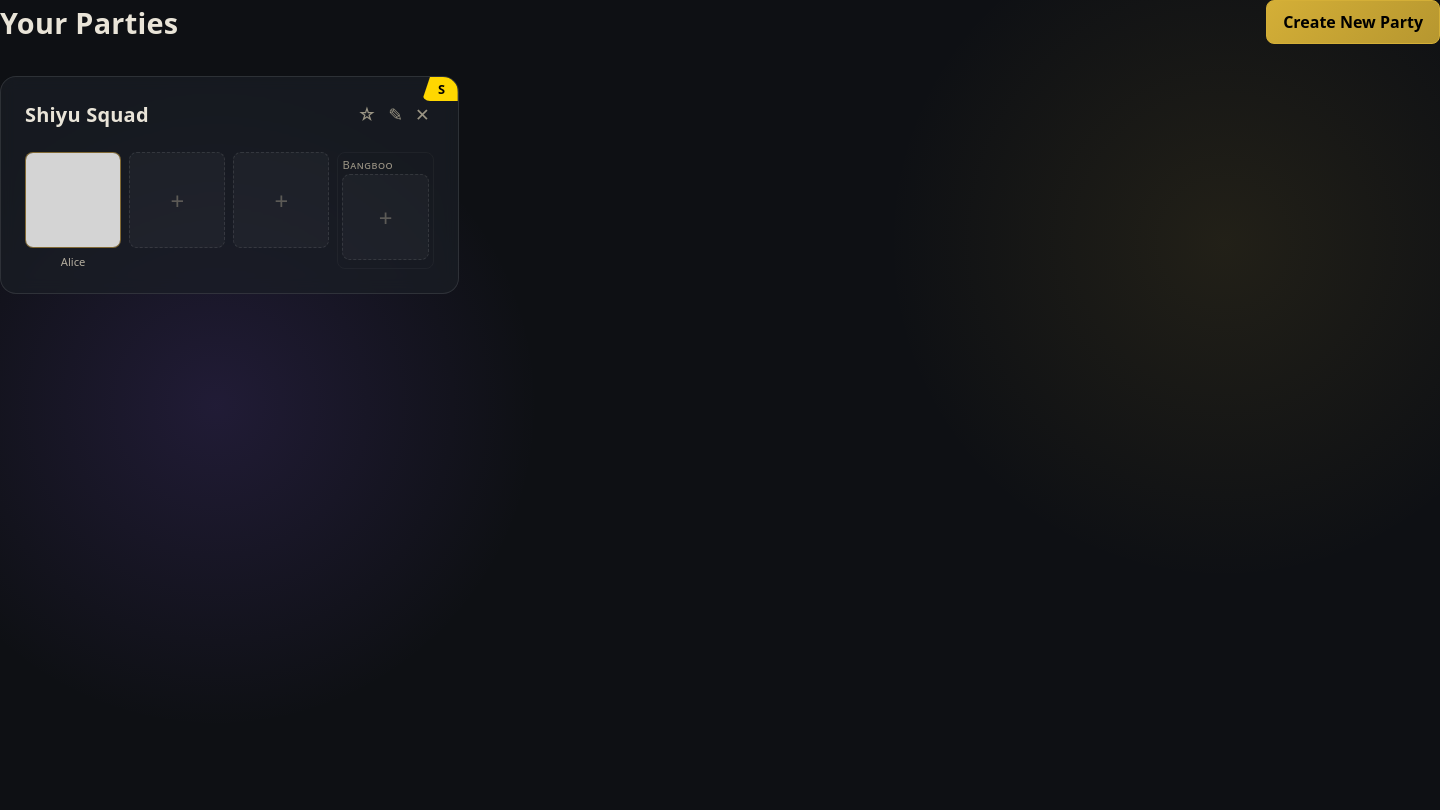
PartiesTab (ZZZ config wiring) › resolves companion picker images through getZzzBangbooIconUrl
Click the button "Create New Party" at (1353, 22), box [1266, 0, 1439, 44]
(page scrolled)
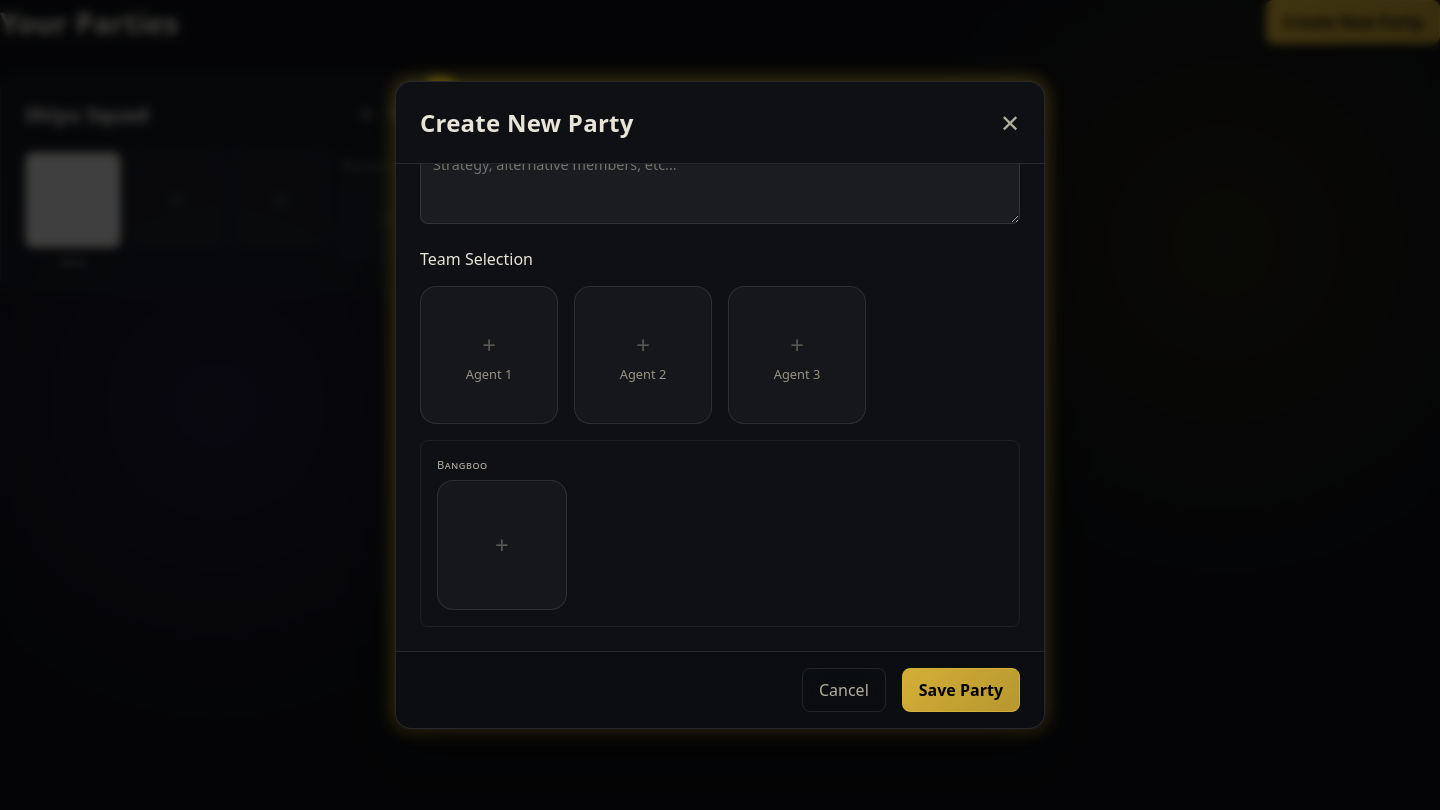
Click the element with class "builder-slot" showing "+" at (502, 545), box [437, 480, 566, 610]
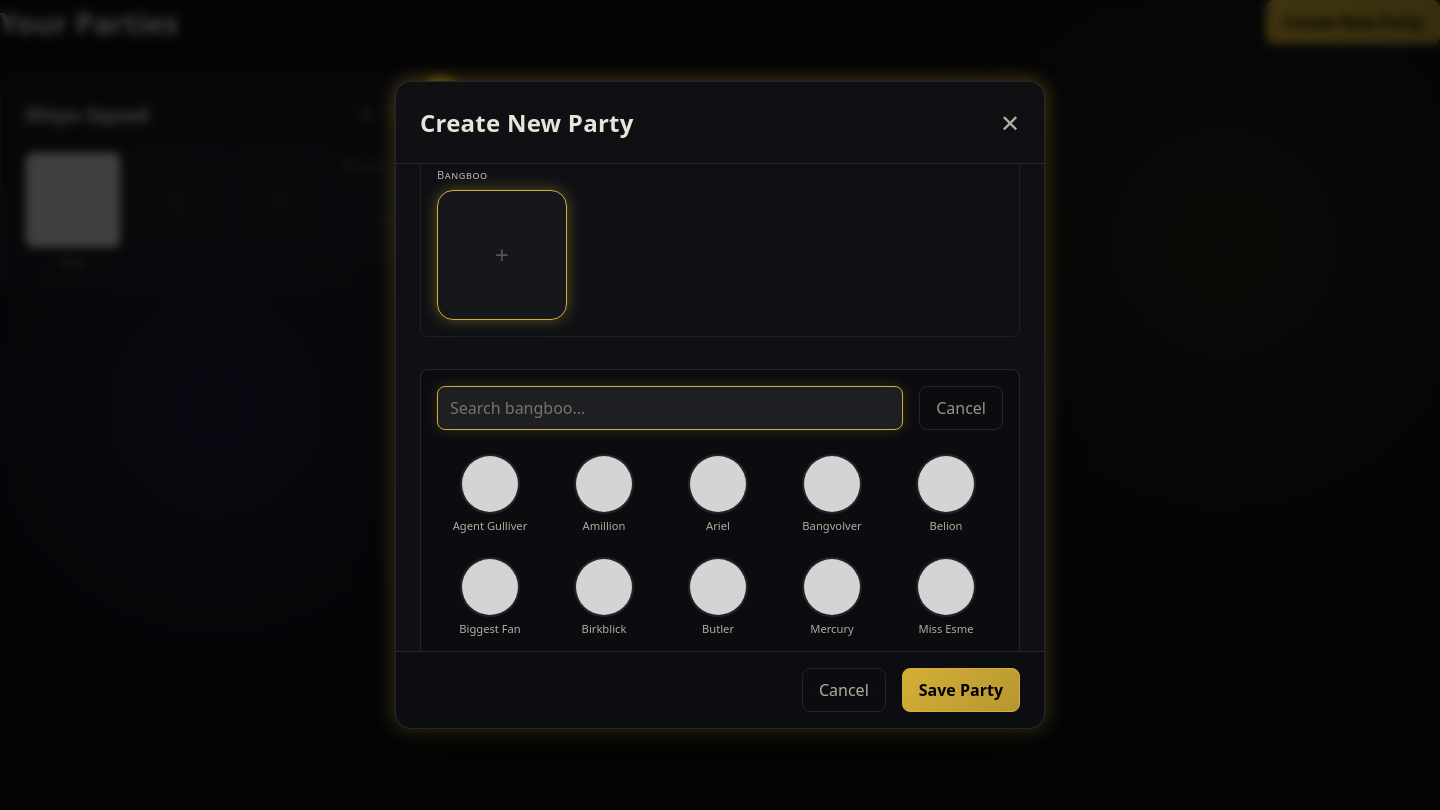
Now the field with placeholder "Search bangboo..." is shown, box [437, 386, 903, 430]
